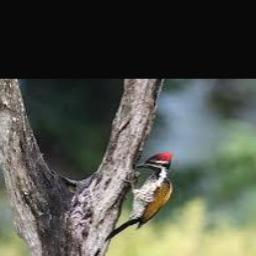Woodpecker: (105, 153, 172, 240)
